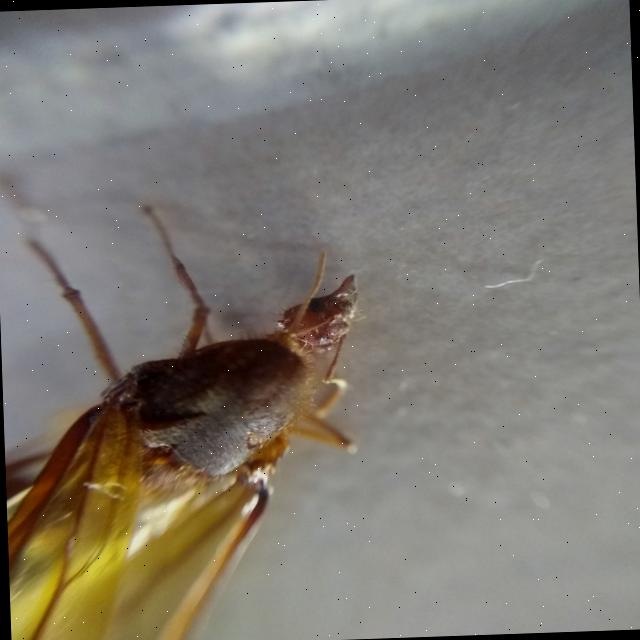Dead-Male-Alate: (0, 161, 378, 640)
